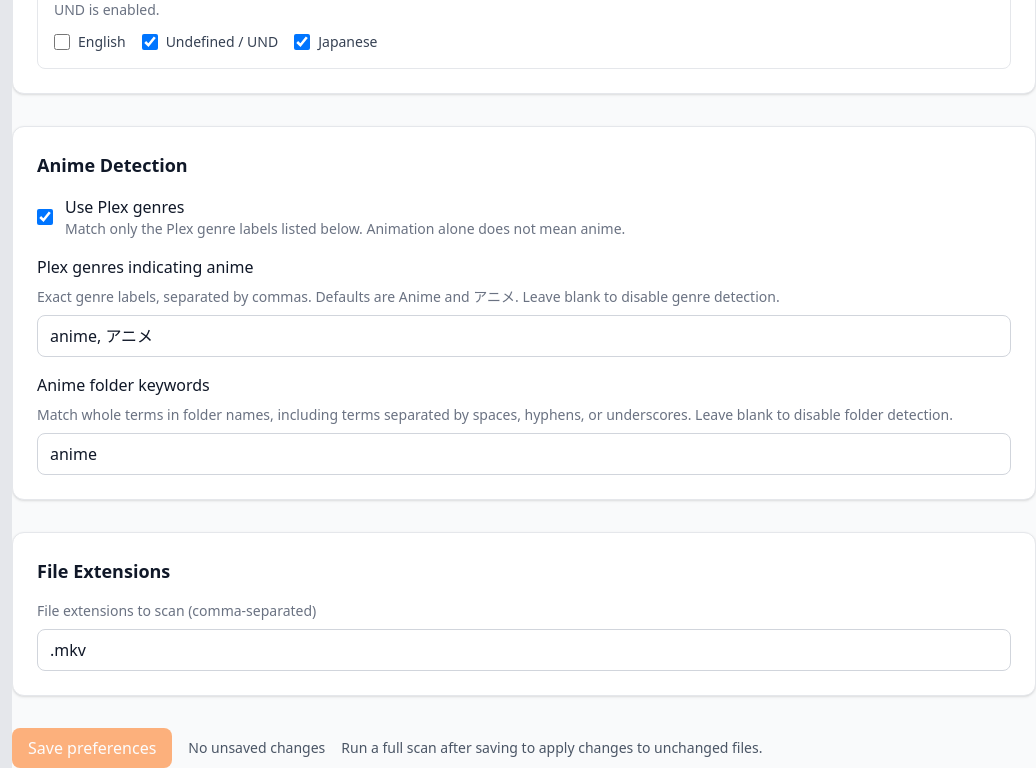
Test case: preference saves › ignores an older query result after a newer save and retains failed edits for retry
(page scrolled)
In the field named "File extensions": (524, 650) [37,629,1011,671], type ", .mp4"
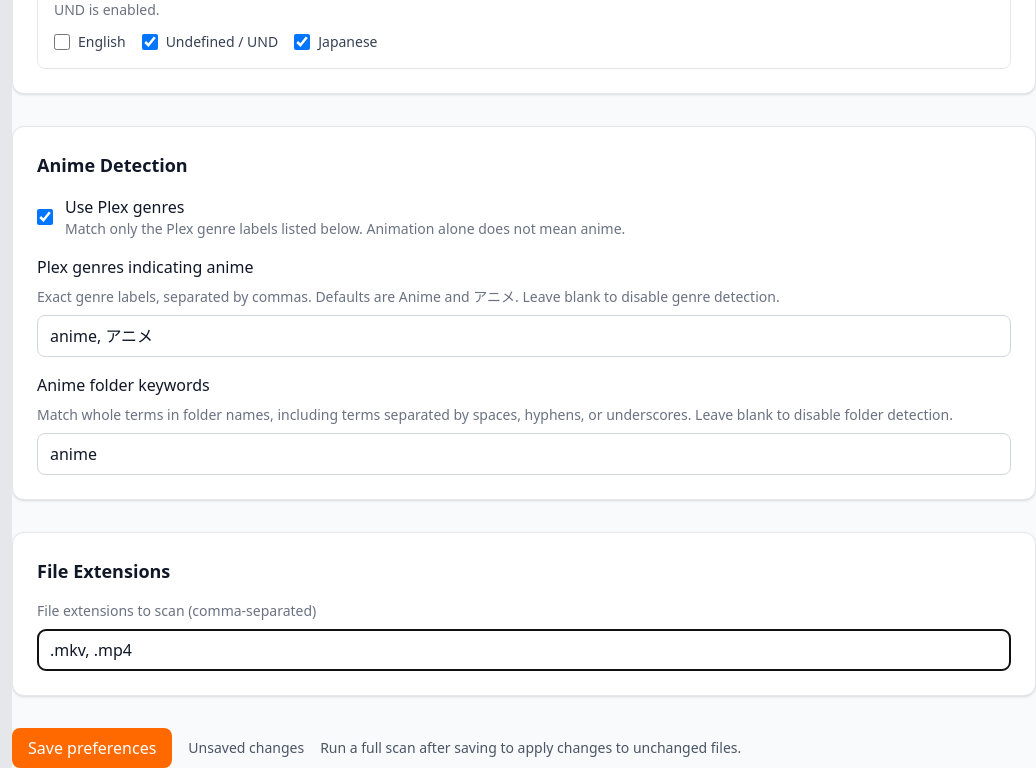
Click the button "Save preferences": (92, 748) [12,728,172,767]
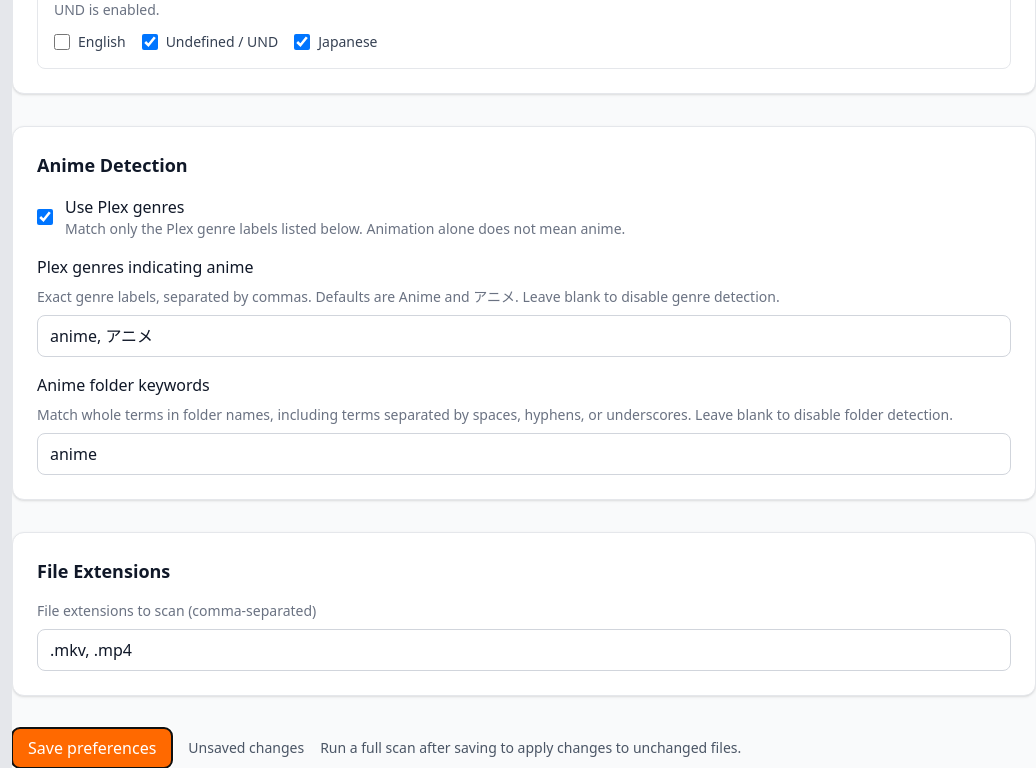
Check: the field named "File extensions" holds ".mkv, .mp4", box [37,629,1011,671]
Click the button "Save preferences": (92, 748) [12,728,172,767]
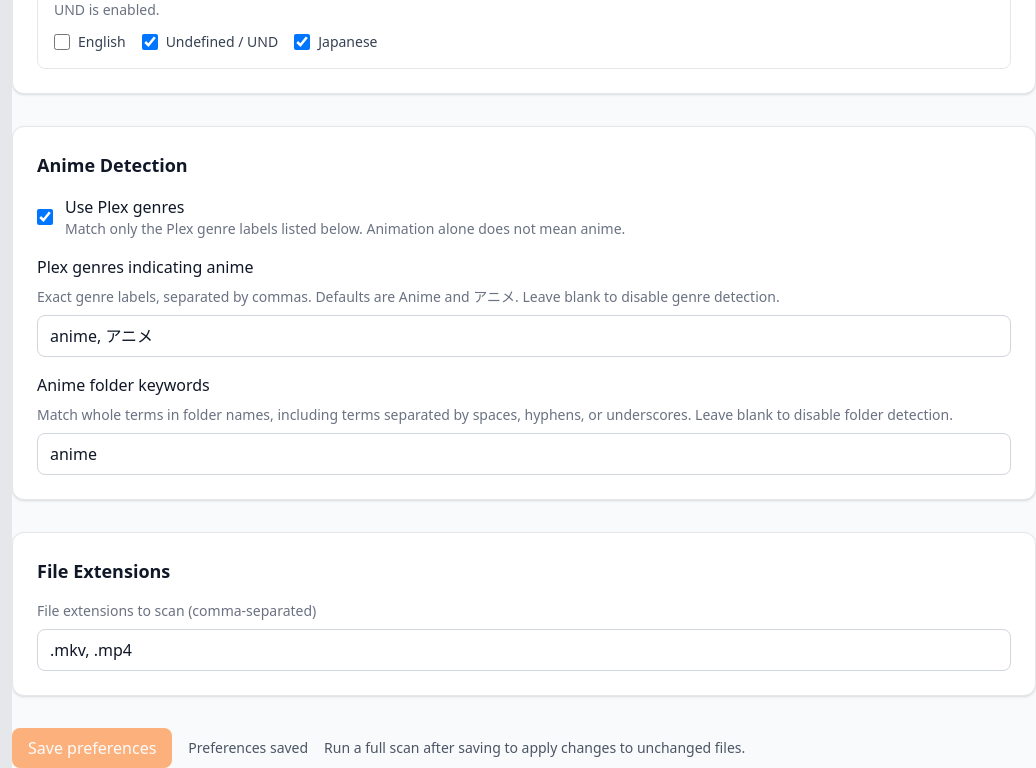
Check: the message reads "Preferences saved", box [188,738,308,757]
